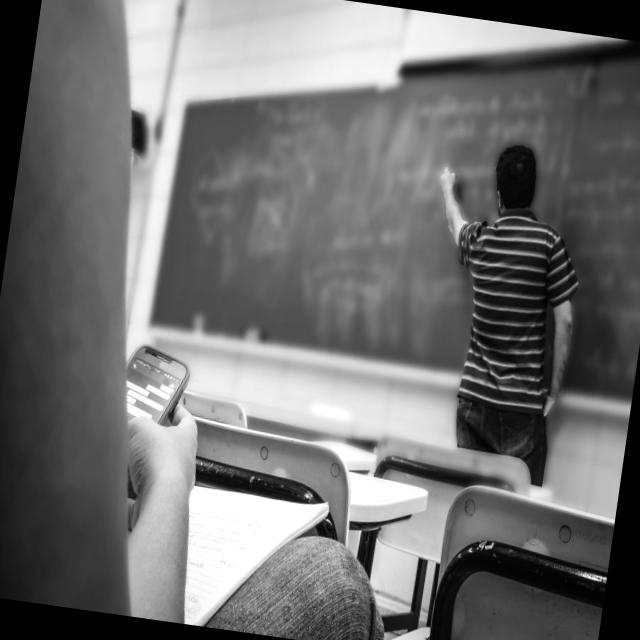phone: (118, 341, 194, 432)
